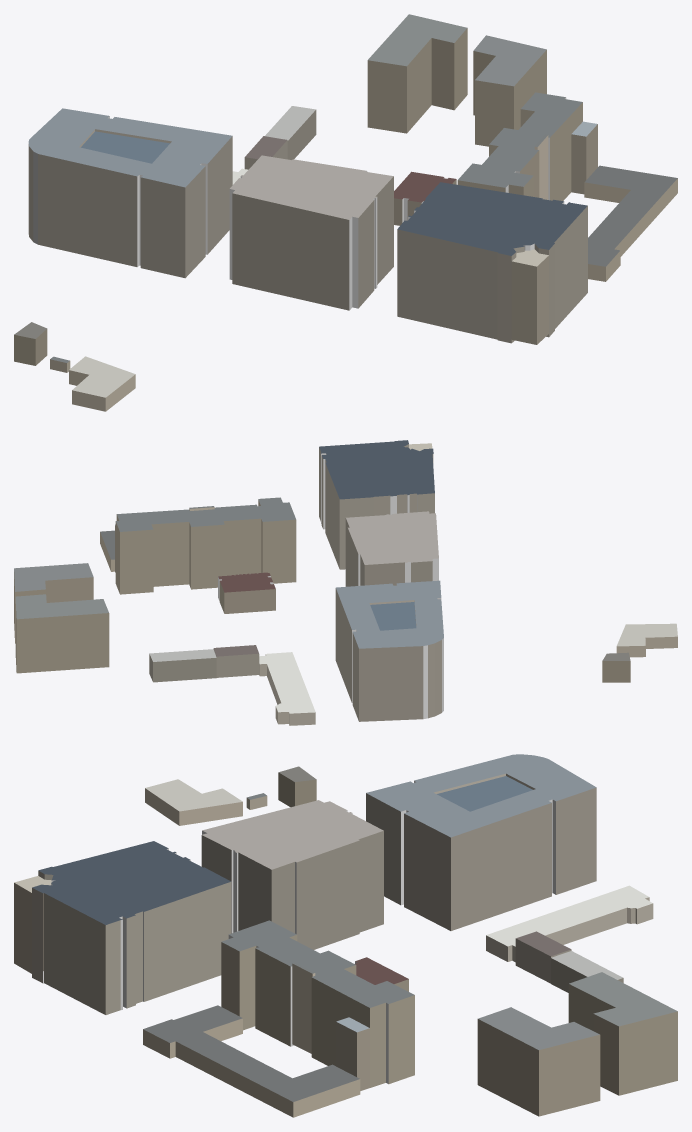
3 renders of one model, top to bottom at view 1: azimuth 30°, elevation 25°; view 2: azimuth 150°, elevation 25°; view 3: azimuth 270°, elevation 25°, orthographic. The views are drawn at different scales.
Visible parts, largest first — view 1: tuile; view 2: tuile; view 3: tuile.
Part boxes in pixels (bbox=[...]): tuile: bbox=[14, 14, 677, 411]; tuile: bbox=[14, 440, 677, 725]; tuile: bbox=[14, 754, 677, 1117].
Size of the model in its own units: 270 by 41.83 by 227.
